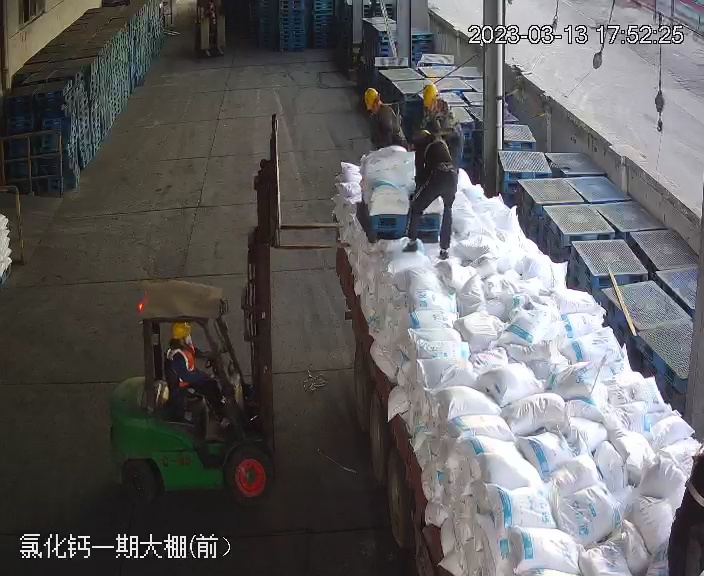belt: (684, 442, 704, 511), (425, 107, 458, 138), (424, 135, 452, 161), (375, 102, 402, 128)
head: (416, 83, 457, 122), (166, 322, 200, 366), (363, 88, 399, 123)
helmet: (421, 83, 439, 106), (363, 87, 380, 108), (172, 322, 193, 339)
people: (399, 90, 462, 264), (165, 322, 231, 431), (362, 87, 409, 152)
truck: (321, 70, 698, 576)
